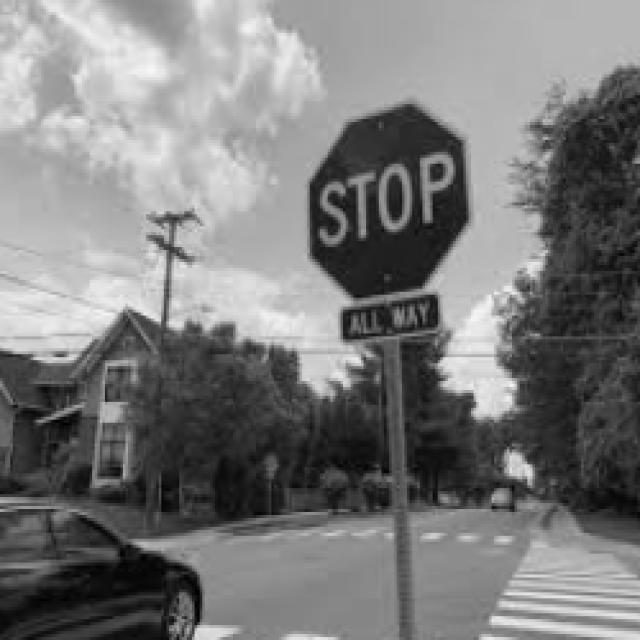Stop-signs: (308, 97, 475, 301)
